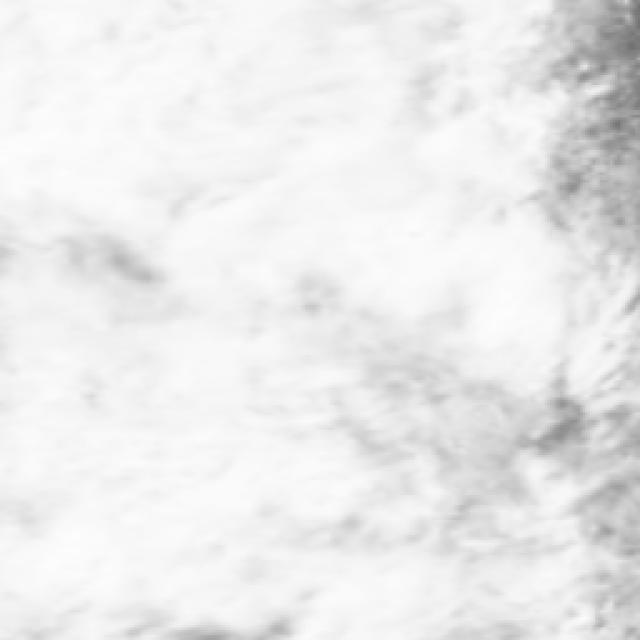CB: (3, 2, 466, 215), (3, 349, 257, 638)
